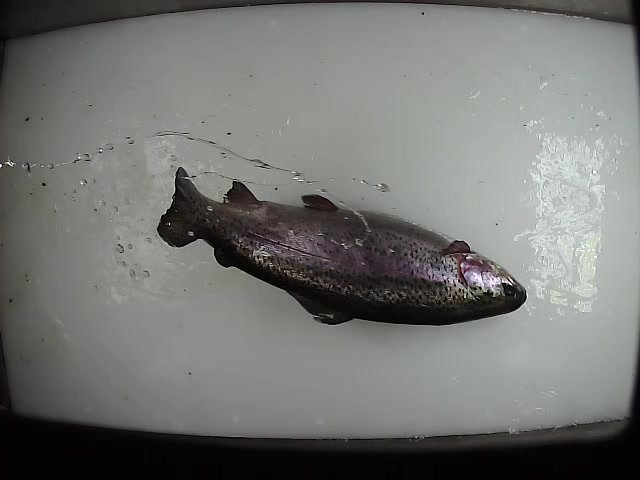Fish: (156, 165, 527, 324)
